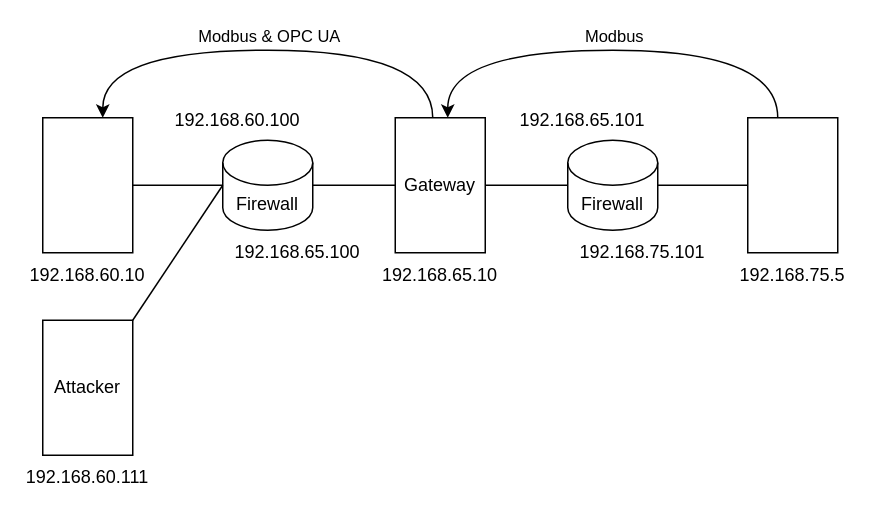
Image size: 870x525. Some labels were removed from this diagram. Here are the shapes that lost their labels. From the top down, the centre of each, then its label:
the point at 87,184: SCADA (FUXA)
the point at 792,184: PLC (ESP32 / Simulator)
